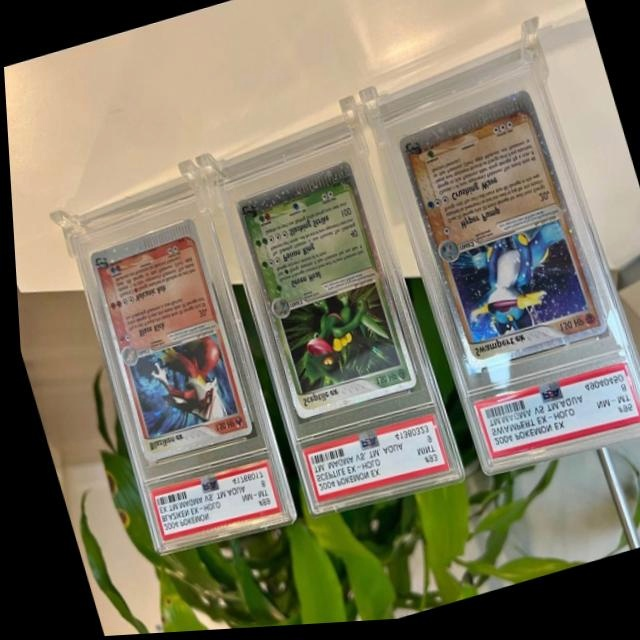card: (393, 91, 603, 375), (231, 164, 413, 423), (83, 217, 247, 464)
